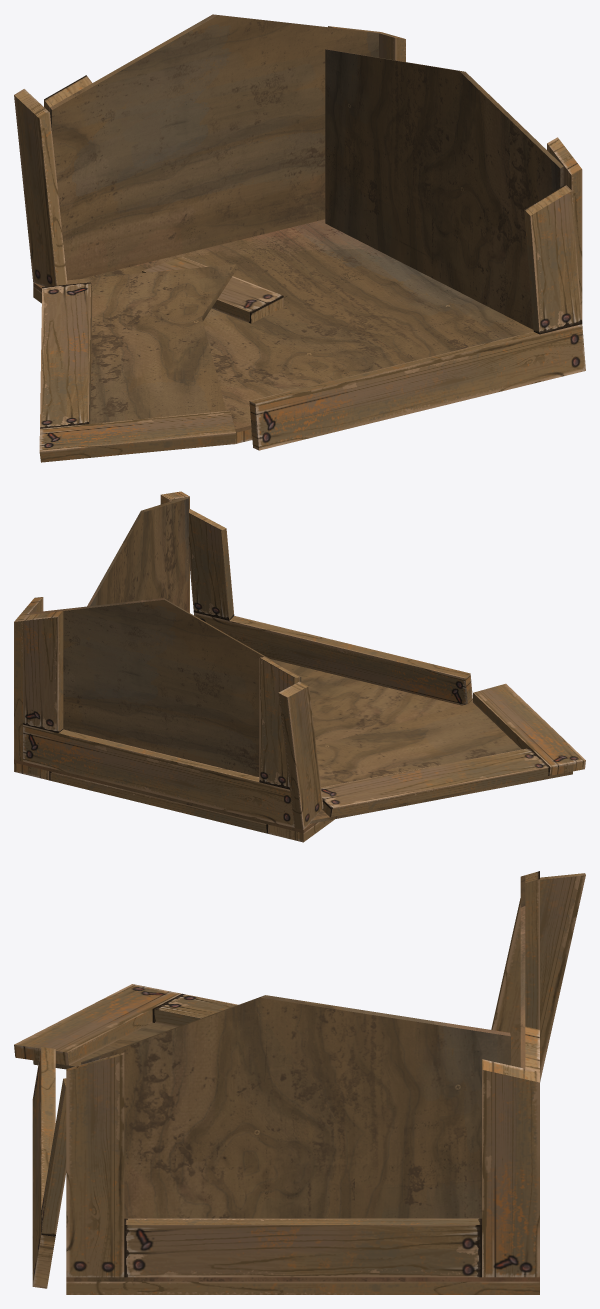
Rendered from crate04_C.fbx.
The picture shows the model from 3 angles, top to bottom: view 1: azimuth 30°, elevation 25°; view 2: azimuth 150°, elevation 25°; view 3: azimuth 270°, elevation 25°; orthographic projection. The views are drawn at different scales.
Parts seen in each view (by area): view 1: crate04_C; view 2: crate04_C; view 3: crate04_C.
Part boxes in pixels (left/top/right/bottom): crate04_C: left=14, top=14, right=585, bottom=462; crate04_C: left=14, top=491, right=585, bottom=842; crate04_C: left=14, top=871, right=585, bottom=1294.
Size of the model in its own units: 145 by 66.24 by 118.
